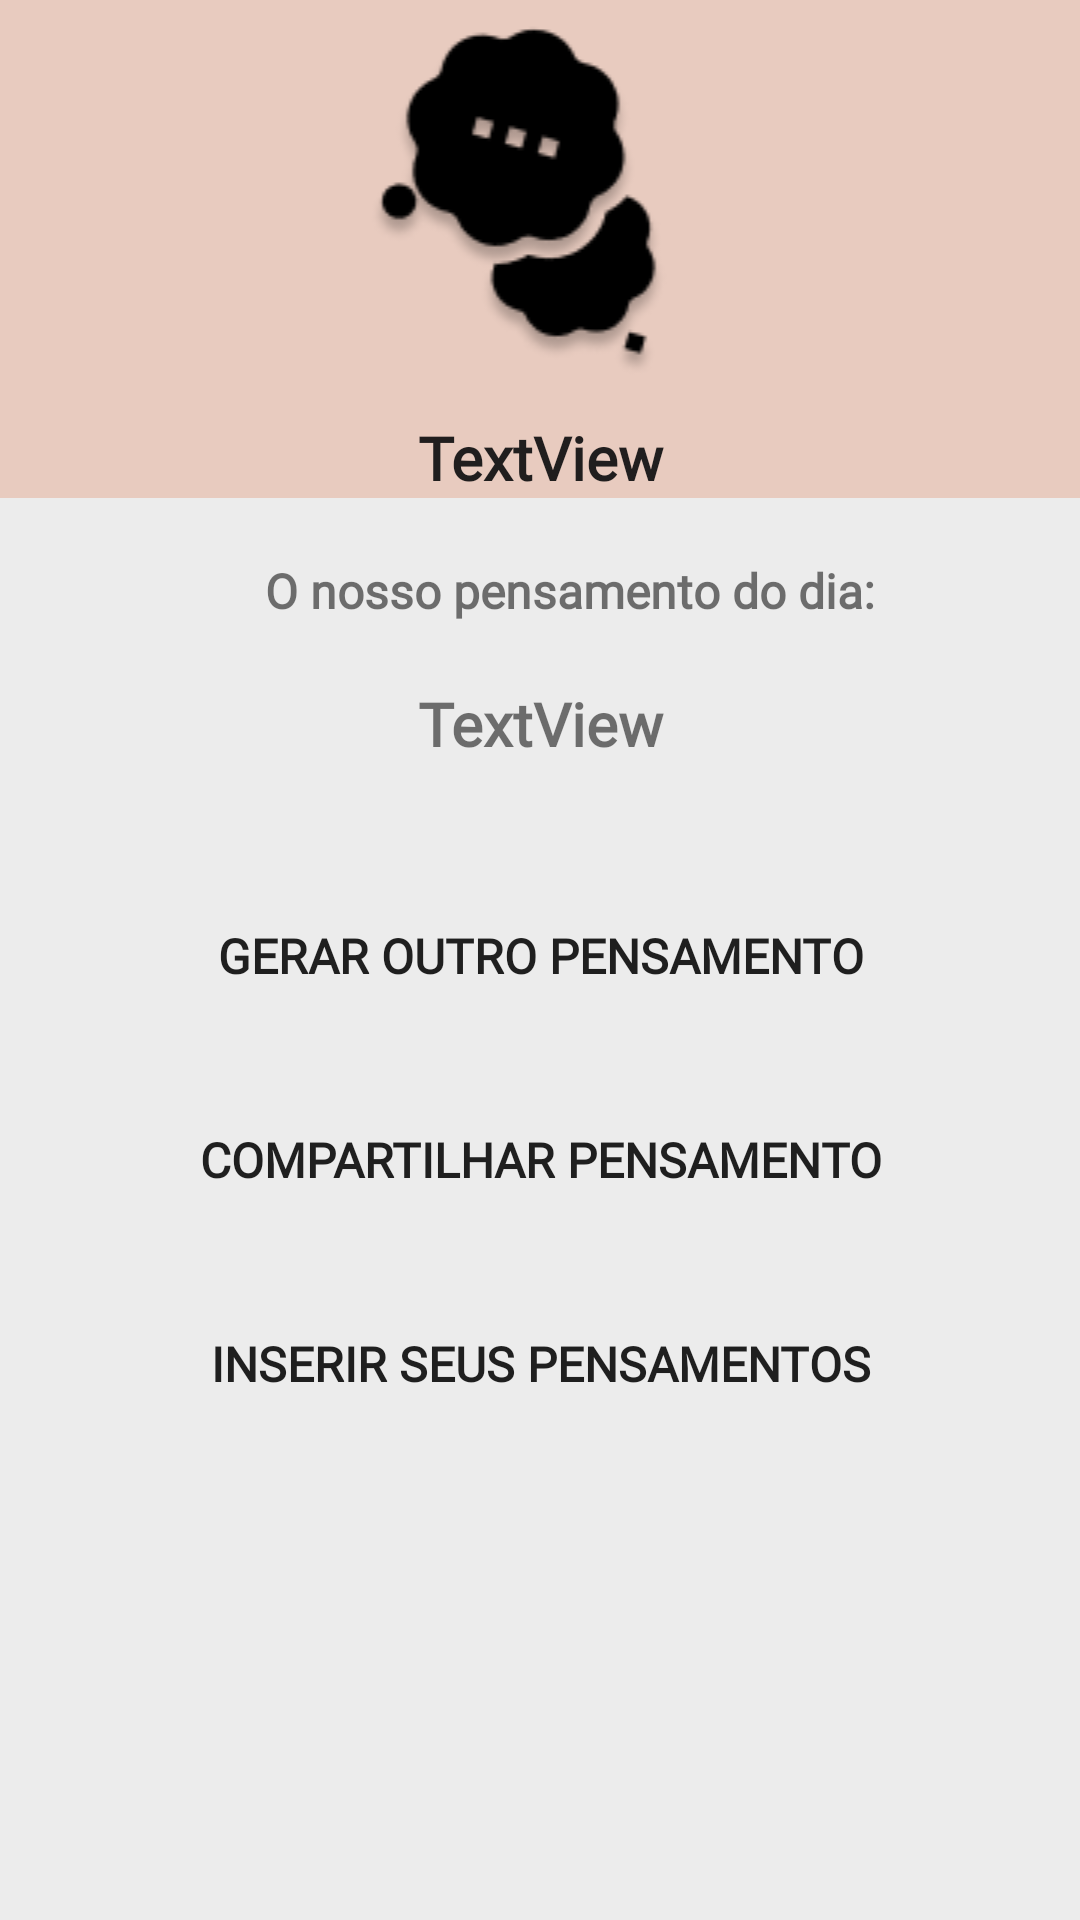

Where icons sit on this 1080px×1920px app screen, as (x1, y1, x2, y2):
ícone com balão de pensamento: (380, 29, 657, 364)
